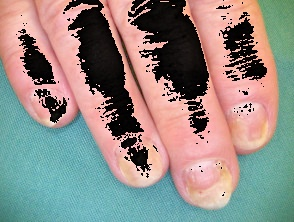Nail_psoriasis: (100, 117, 179, 197), (171, 148, 245, 221), (19, 73, 78, 134), (221, 95, 279, 154)
